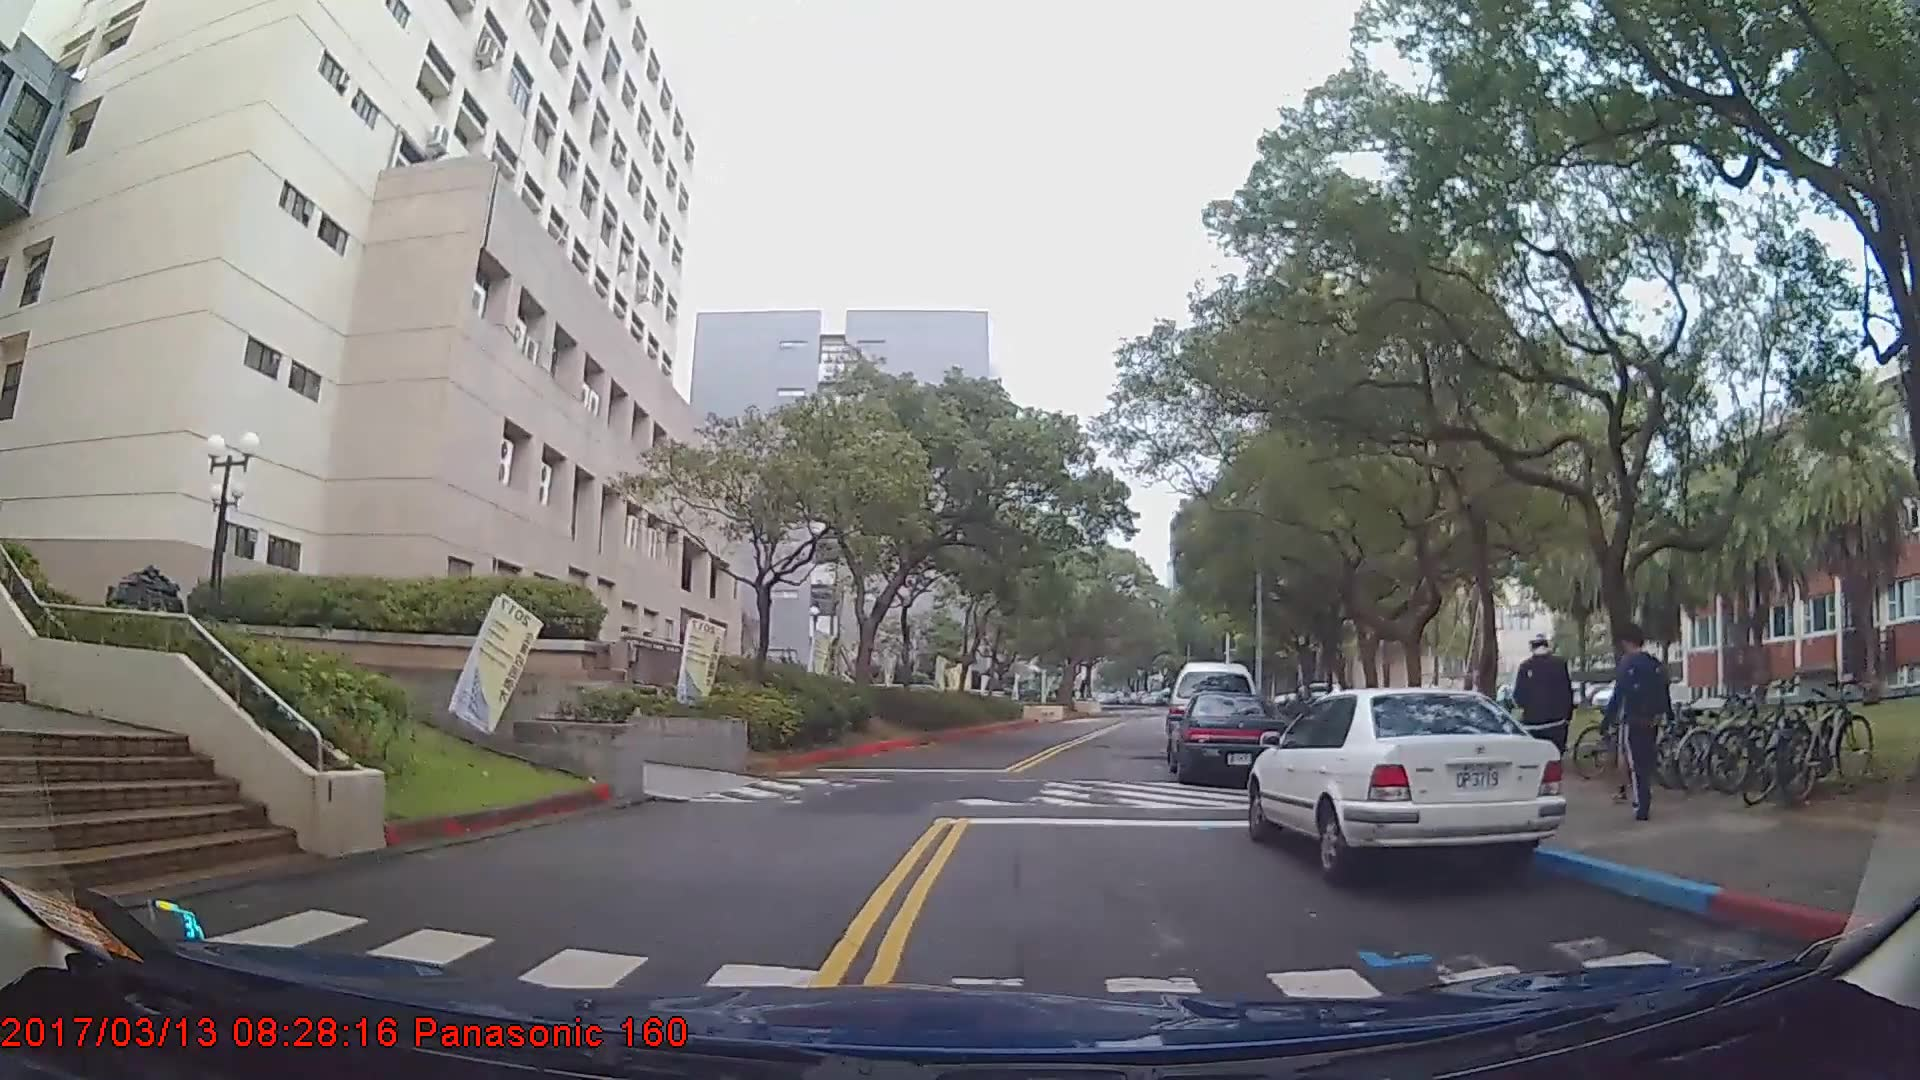pedestrian: (1613, 623, 1676, 824), (1515, 631, 1574, 817)
vehicle: (1245, 683, 1568, 886), (1169, 690, 1288, 784)
